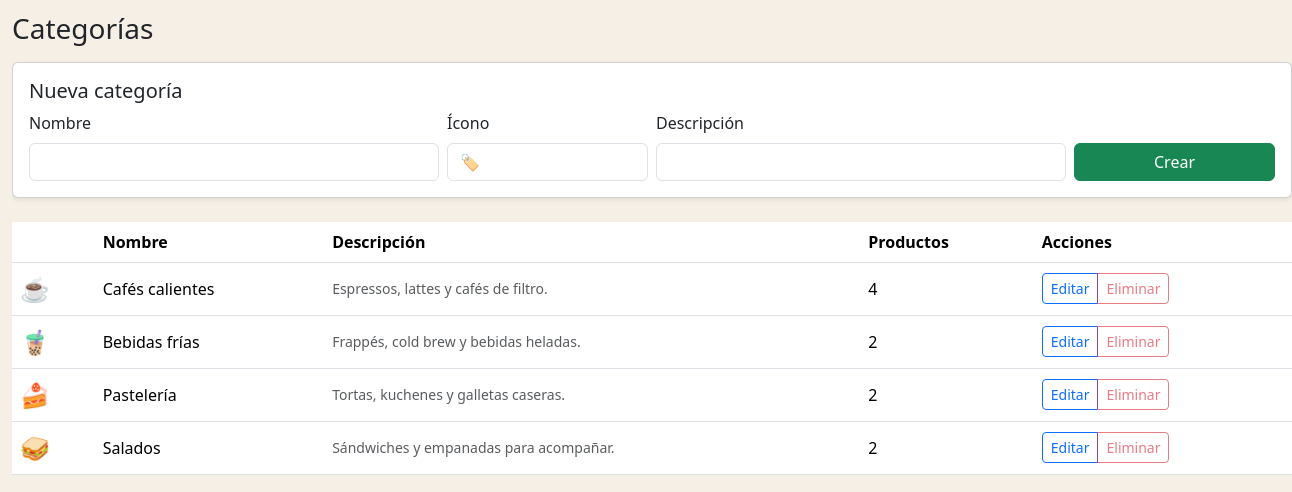
Test: Pruebas del Inspector para AdminCategoriasView › edita el nombre de una categoría
Click the button "Editar" in the row of "Cafés calientes".
click(1070, 289)  # box x1=1042 y1=273 x2=1098 y2=304
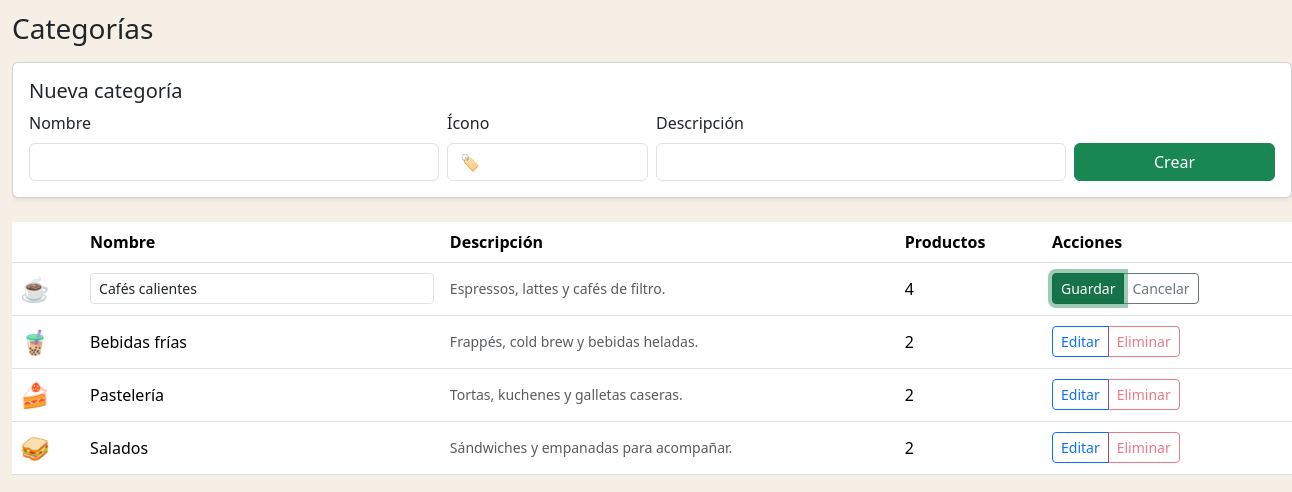
// El robot busca la cajita de edición, borra lo que había, y escribe el nuevo nombre
Replace the text in the field named "Editar nombre" with "Cafés de grano" at (262, 289), box x1=90 y1=273 x2=434 y2=304
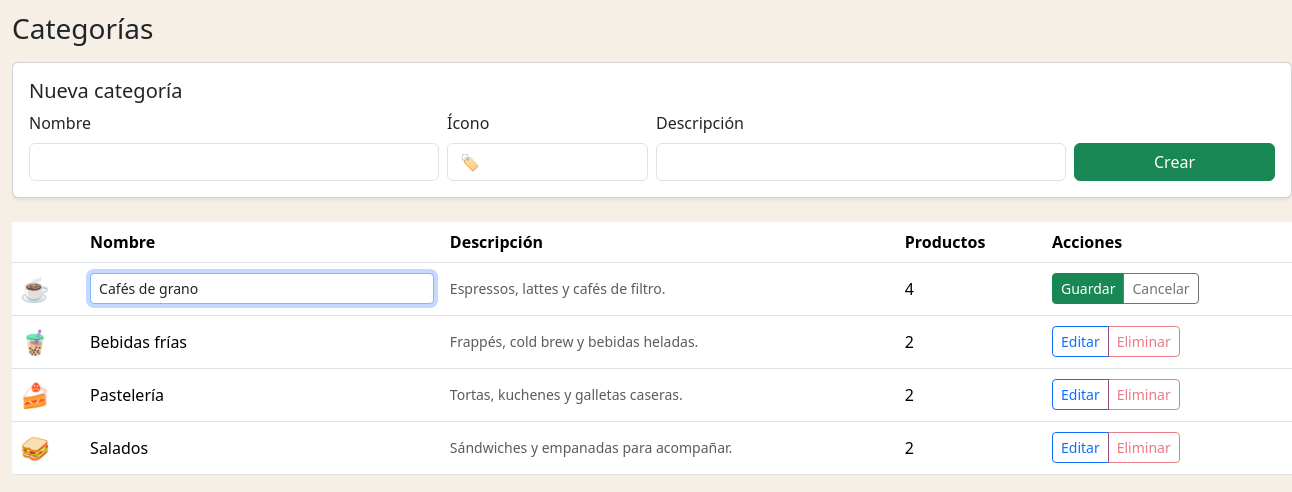
// Hacemos clic en Guardar
Click the button "Guardar".
click(1088, 289)  # box x1=1052 y1=273 x2=1124 y2=304
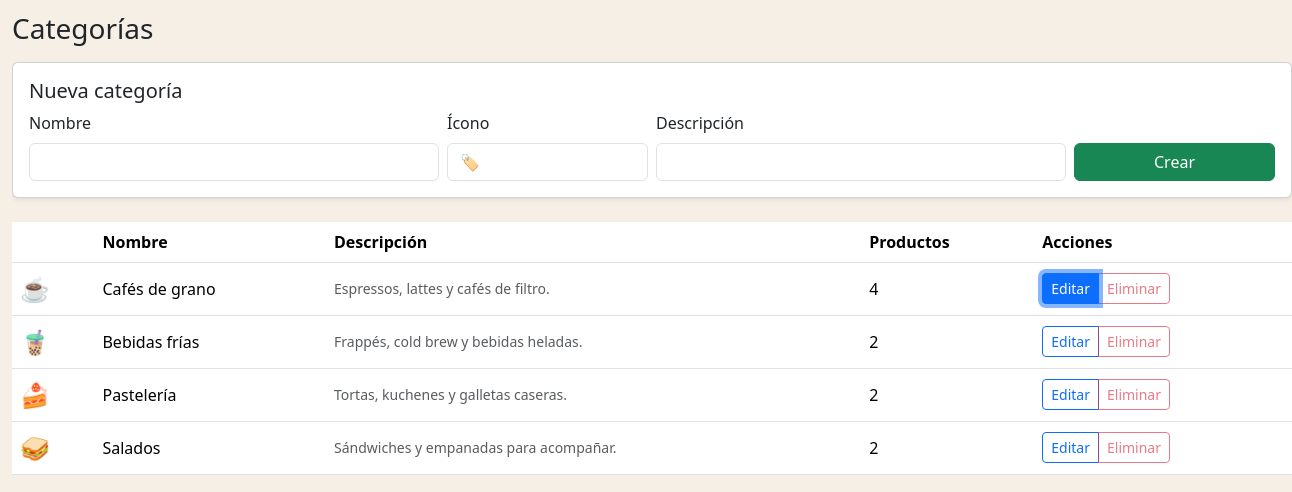
Check: the text "Cafés de grano" is shown, box x1=94 y1=262 x2=326 y2=315
